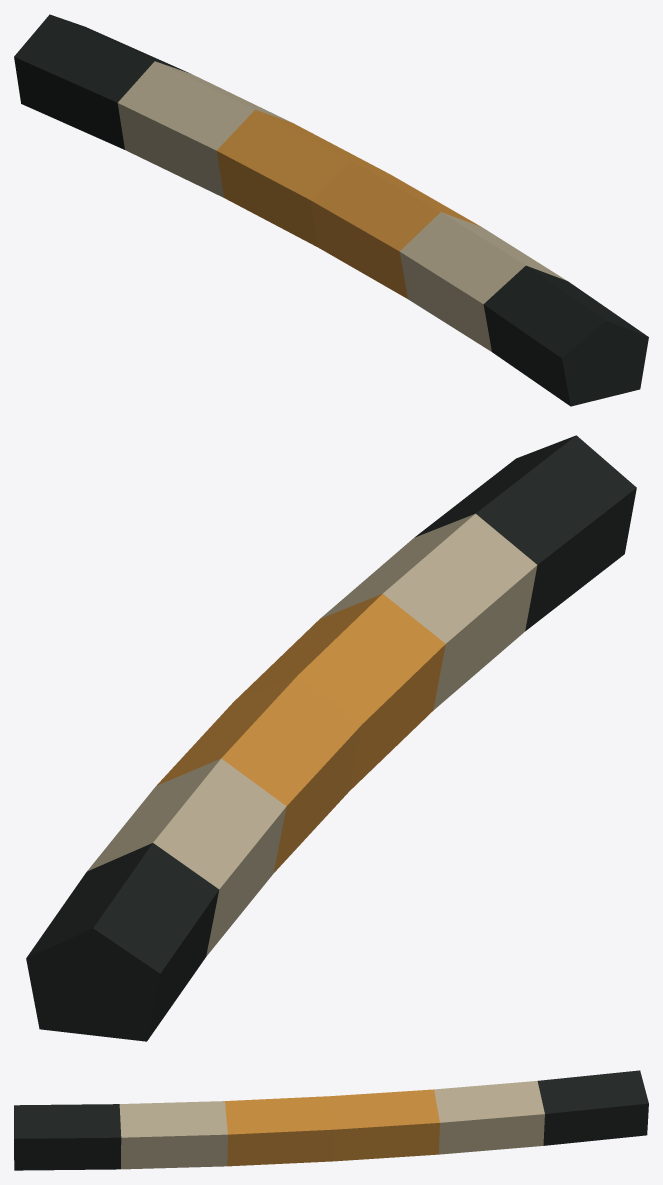
The model's file is waking_rim_coping.glb.
3 renders of one model, top to bottom at view 1: azimuth 30°, elevation 25°; view 2: azimuth 150°, elevation 25°; view 3: azimuth 270°, elevation 25°, orthographic. The views are drawn at different scales.
Visible parts, largest first — view 1: WakingRimCoping; view 2: WakingRimCoping; view 3: WakingRimCoping.
Part boxes in pixels (x1,y1,x2,y2): WakingRimCoping: [14, 14, 648, 406]; WakingRimCoping: [26, 435, 636, 1041]; WakingRimCoping: [14, 1070, 648, 1170].
Bounding box in the file's own units: 2.17 × 0.85 × 9.13.
